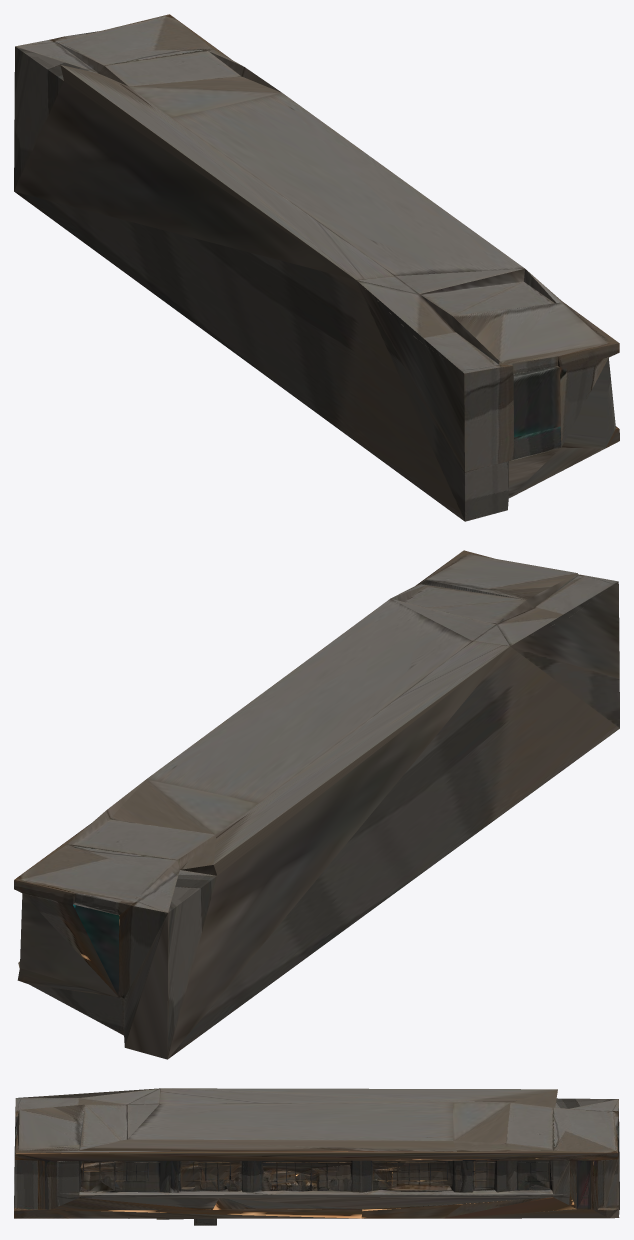
3 renders of one model, top to bottom at view 1: azimuth 30°, elevation 25°; view 2: azimuth 150°, elevation 25°; view 3: azimuth 270°, elevation 25°, orthographic. The views are drawn at different scales.
Visible parts, largest first — view 1: u01; view 2: u01; view 3: u01.
Boxes of the visible parts, x1,y1,x2,y2 form: u01: (14, 14, 619, 521); u01: (14, 550, 619, 1059); u01: (14, 1088, 619, 1225).
Bounding box in the file's own units: 5.73 × 5.97 × 28.77.
Materials: 1 (1 with a texture image).
